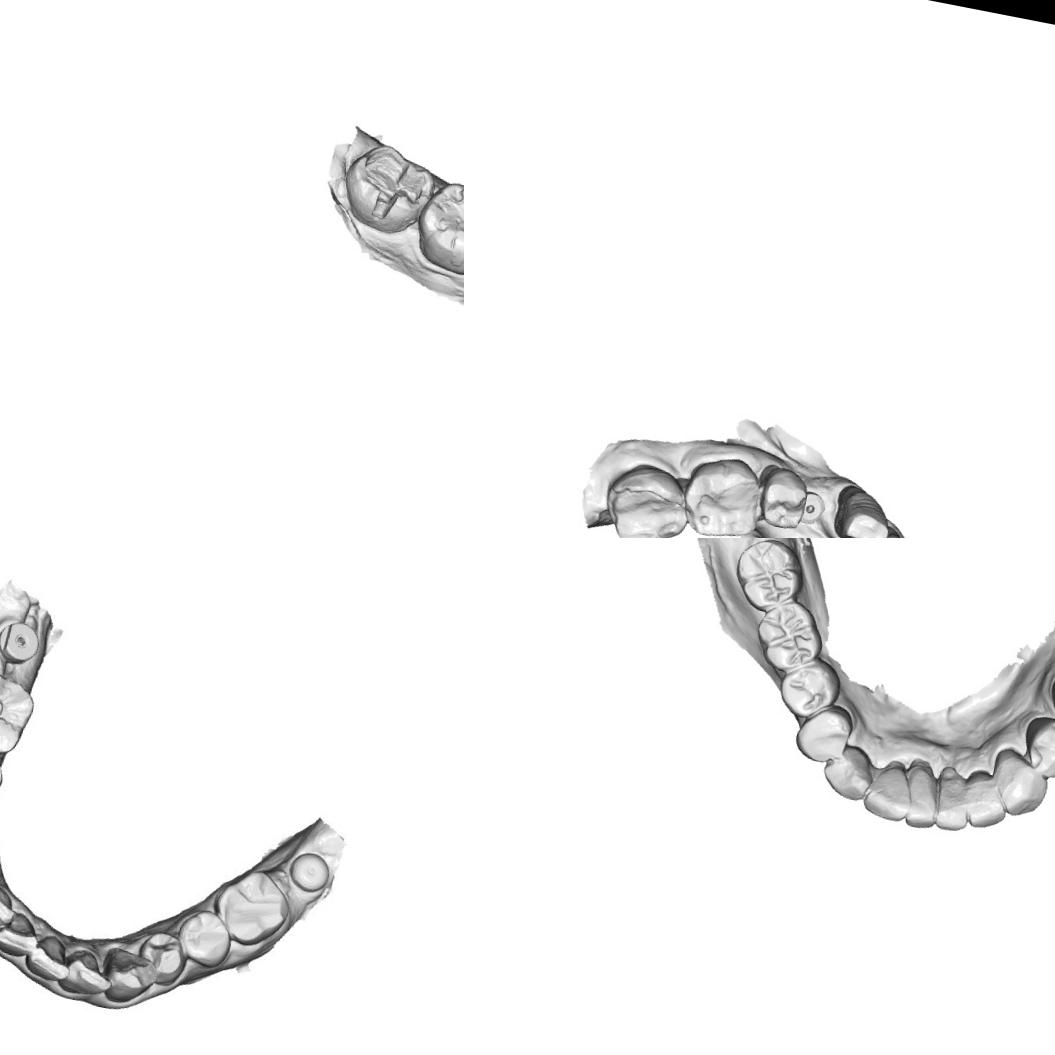canine: (984, 747, 1054, 822), (818, 739, 878, 804), (827, 481, 893, 538), (102, 946, 160, 1006)
implant: (0, 611, 49, 666), (286, 848, 334, 896), (798, 489, 827, 528)
incisor: (859, 756, 919, 828), (956, 767, 1013, 833), (928, 763, 978, 835), (896, 763, 946, 832), (20, 932, 75, 988), (62, 946, 113, 1003), (0, 905, 37, 961), (0, 881, 20, 934), (852, 525, 919, 538)
inlay: (348, 141, 433, 230)
molar: (676, 447, 769, 538), (595, 456, 697, 538), (748, 593, 832, 680), (726, 538, 811, 619), (212, 866, 294, 948), (407, 175, 464, 280), (0, 668, 35, 758)
premolar: (774, 652, 845, 723), (790, 699, 854, 768), (754, 462, 811, 532), (174, 906, 236, 965), (138, 931, 192, 988), (1017, 711, 1055, 782)
